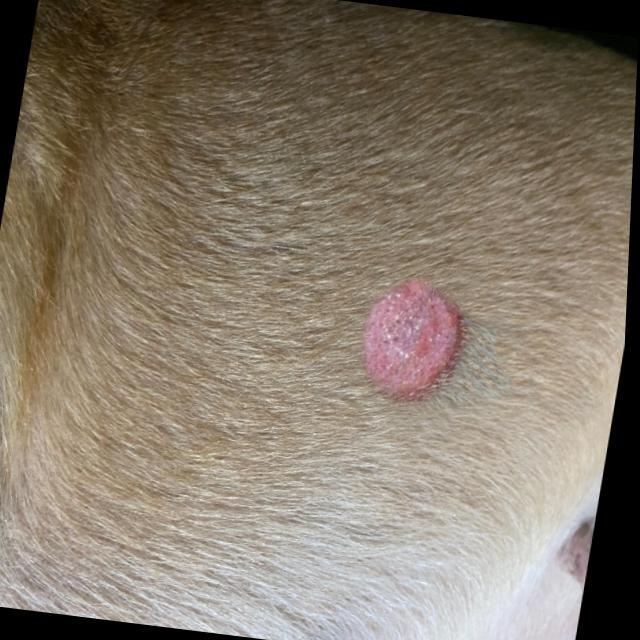ringworm: (322, 242, 525, 456)
